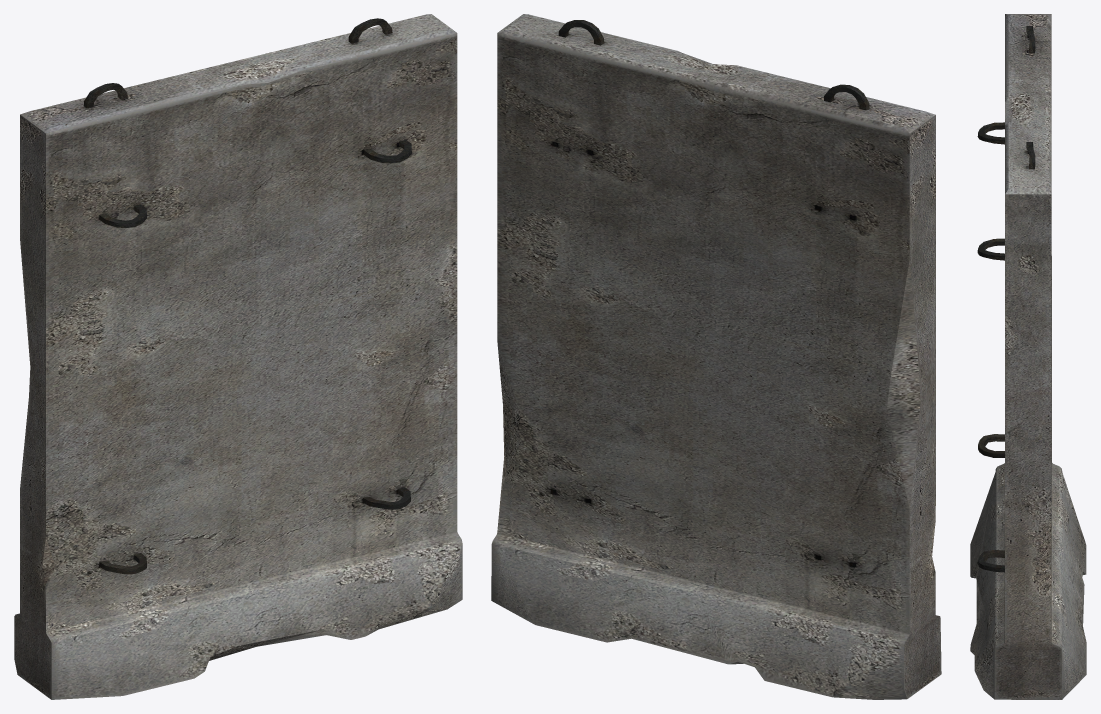
The model's file is MauerEinfach scaling.dae.
3 views of the same model, side by side, from view 1: azimuth 30°, elevation 25°; view 2: azimuth 150°, elevation 25°; view 3: azimuth 270°, elevation 25° (orthographic). The views are drawn at different scales.
Visible parts, largest first — view 1: MauerEinfach; view 2: MauerEinfach; view 3: MauerEinfach.
Part boxes in pixels (x1,y1,x2,y2): MauerEinfach: [14, 14, 462, 699]; MauerEinfach: [491, 14, 941, 699]; MauerEinfach: [970, 14, 1086, 699].
Bounding box in the file's own units: 2.82 × 3.8 × 0.7669.
Materials: 1 (1 with a texture image).
